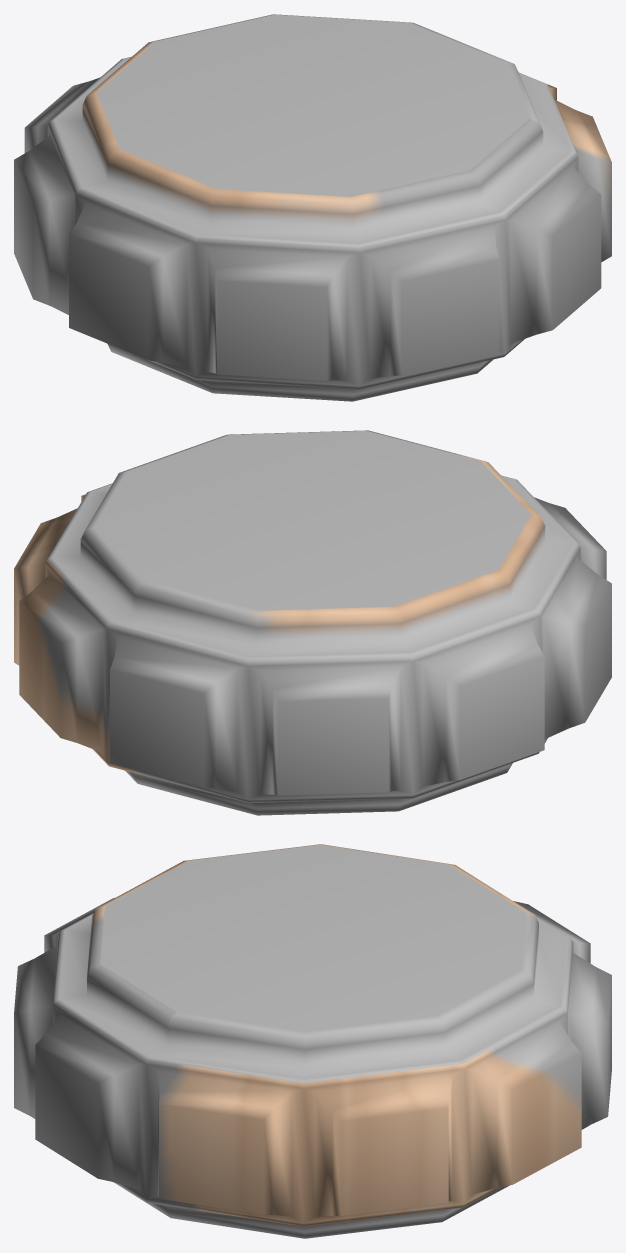
The model's file is SM_Cadenas_Chiffre.fbx.
3 renders of one model, top to bottom at view 1: azimuth 30°, elevation 25°; view 2: azimuth 150°, elevation 25°; view 3: azimuth 270°, elevation 25°, orthographic.
Visible parts, largest first — view 1: SM_Cadenas_Chiffre; view 2: SM_Cadenas_Chiffre; view 3: SM_Cadenas_Chiffre.
Boxes of the visible parts, x1=… form: SM_Cadenas_Chiffre: x1=14, y1=14, x2=611, y2=401; SM_Cadenas_Chiffre: x1=14, y1=430, x2=611, y2=815; SM_Cadenas_Chiffre: x1=14, y1=844, x2=611, y2=1238.
Size of what is drawn, in the model's own units: 1.78 by 0.6741 by 1.77.
